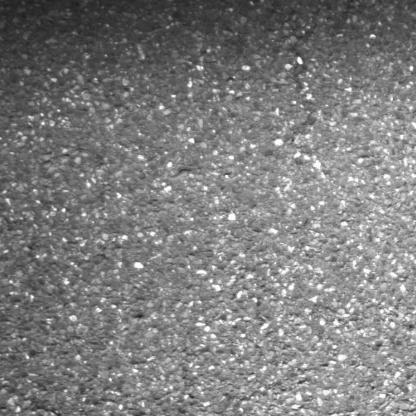Cracks: (4, 385, 77, 416)
